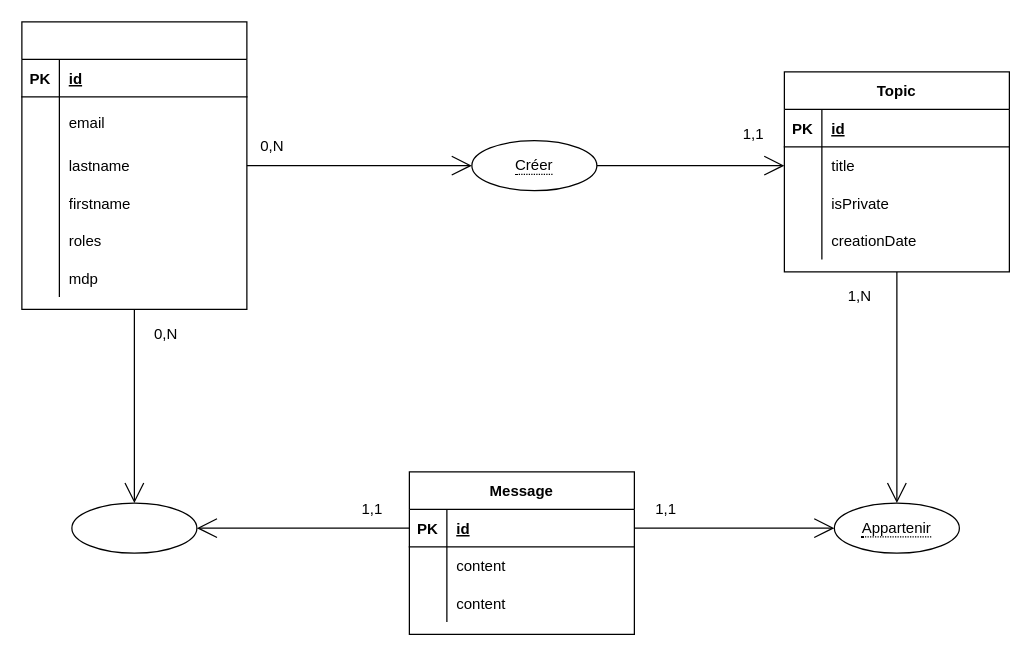
This 1031x656 diagram has some shape labels left out. Each missing label, with the box of its shape:
Rédiger: (71, 502, 197, 553)
User: (21, 21, 247, 309)
